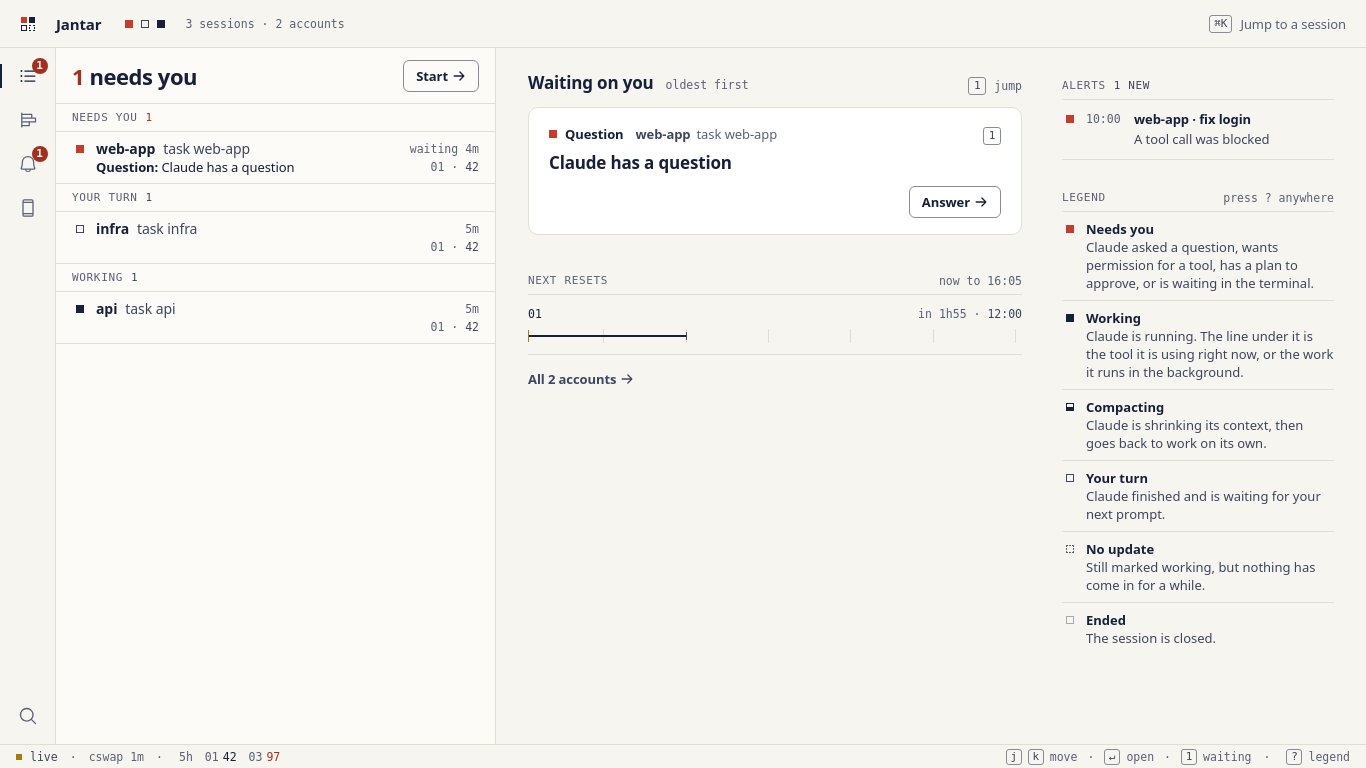
Scenario: desktop shell › opens the palette with Cmd-K and the legend with ?
Press k
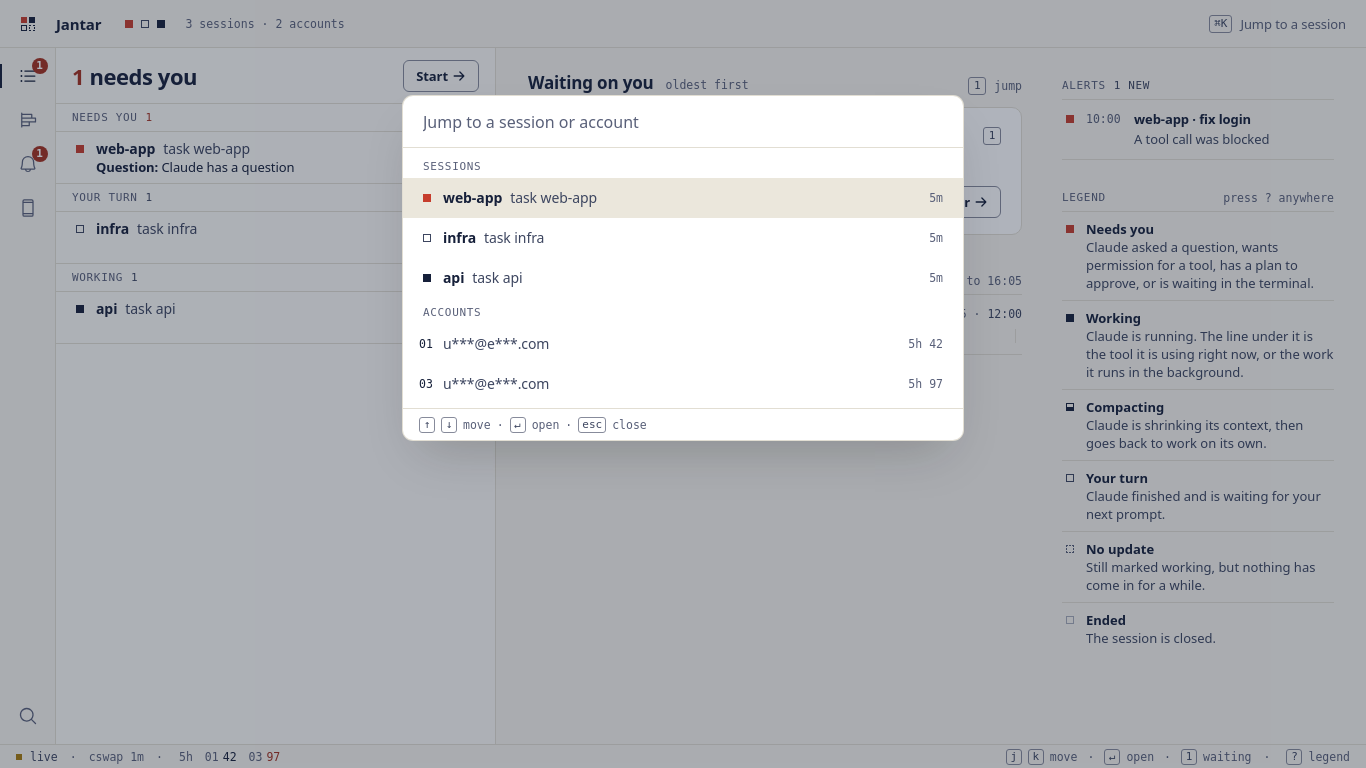
Type "infra" into the dropdown with placeholder "Jump to a session or account" at x=683, y=122, box [403,96,963,148]
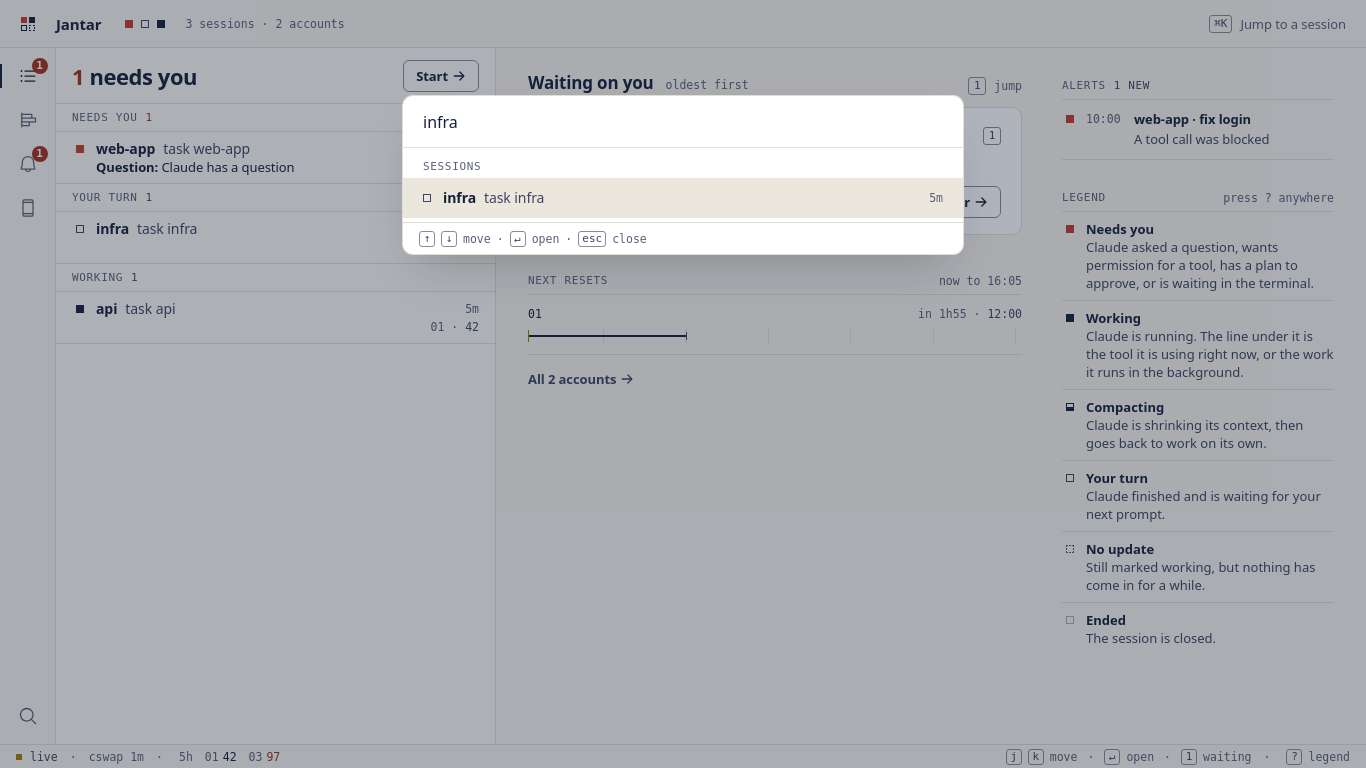
Press Enter in the dropdown with placeholder "Jump to a session or account", box [403,96,963,148]
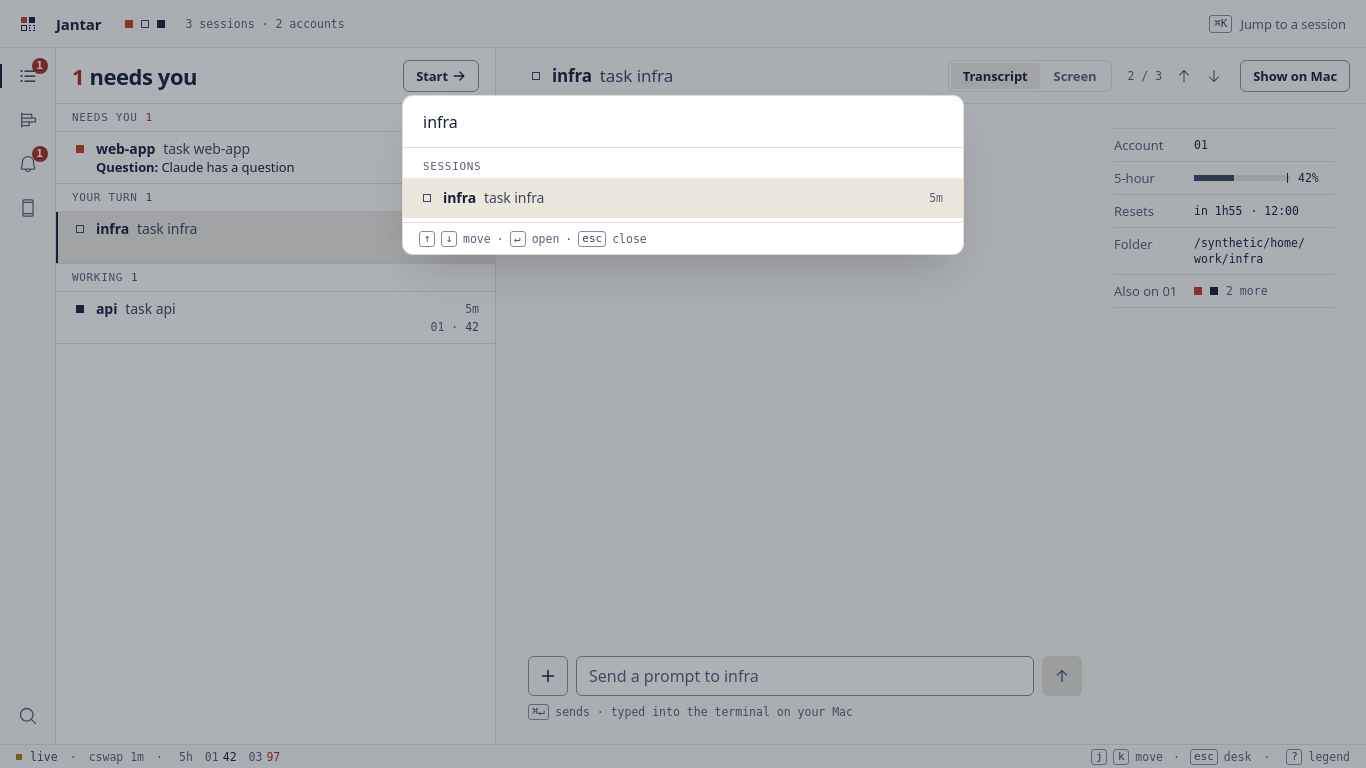
Press ?
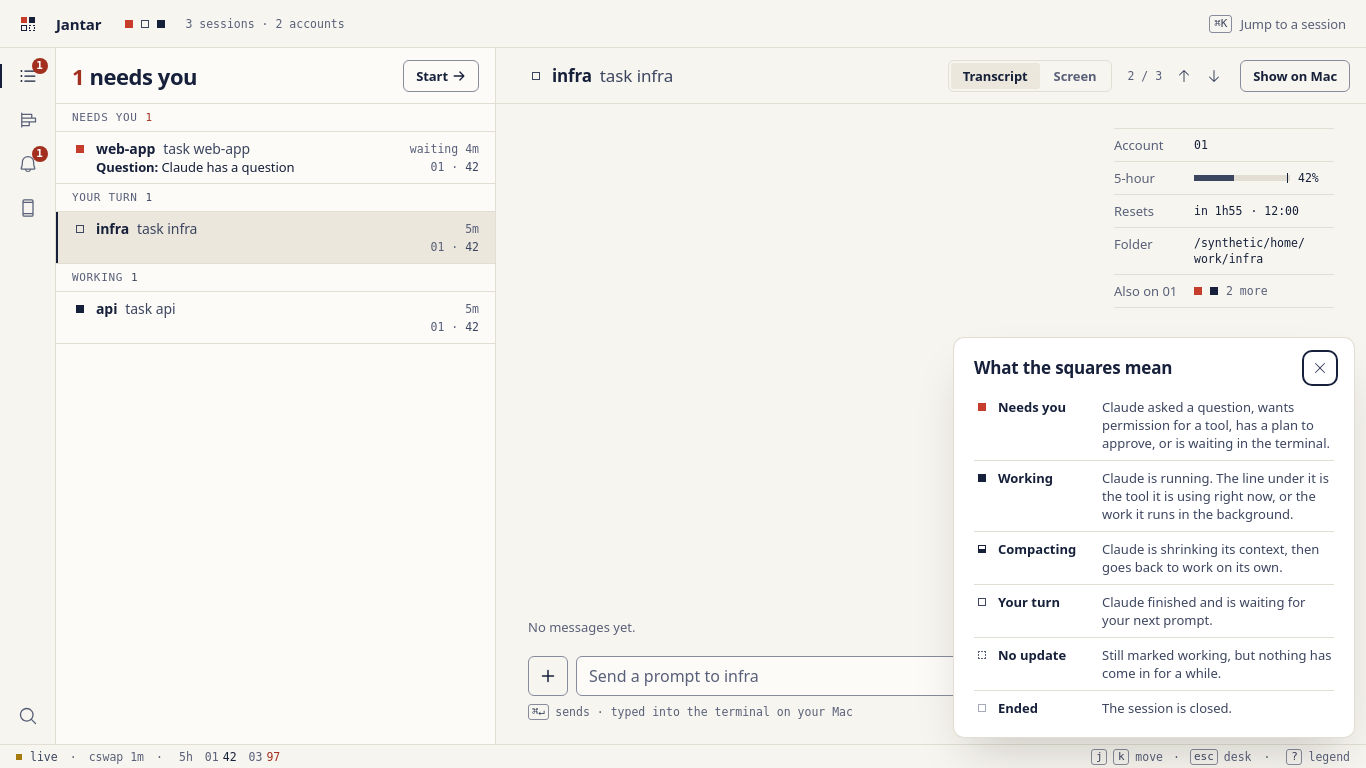
Result: the heading "What the squares mean" is shown at [974,357,1172,379]
